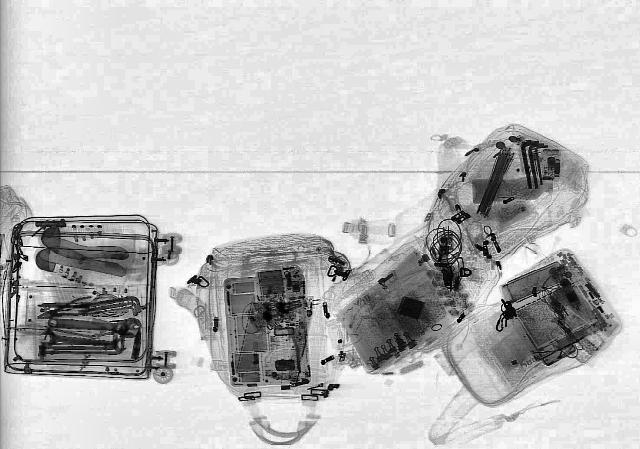Pliers: (31, 294, 100, 322)
Wrench: (44, 312, 142, 340)
